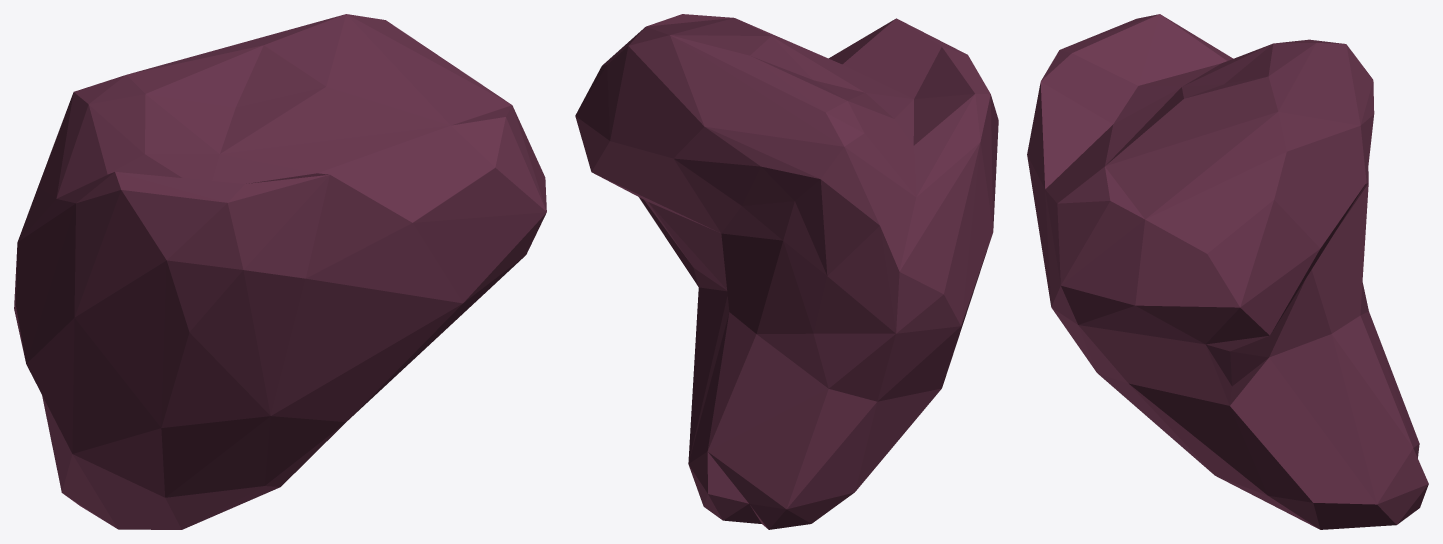
The model's file is asteroid5.fbx.
3 views of the same model, side by side, from view 1: azimuth 30°, elevation 25°; view 2: azimuth 150°, elevation 25°; view 3: azimuth 270°, elevation 25° (orthographic). The views are drawn at different scales.
Visible parts, largest first — view 1: Aasteroid5; view 2: Aasteroid5; view 3: Aasteroid5.
Boxes of the visible parts, x1=… form: Aasteroid5: x1=14, y1=14, x2=546, y2=529; Aasteroid5: x1=575, y1=14, x2=998, y2=529; Aasteroid5: x1=1027, y1=14, x2=1428, y2=529.
Bounding box in the file's own units: 272 × 278 × 214.
